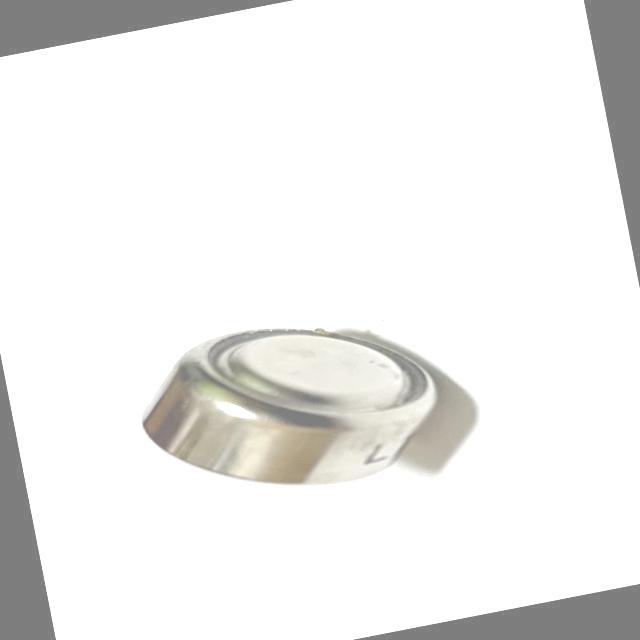COIN: (125, 293, 458, 520)
